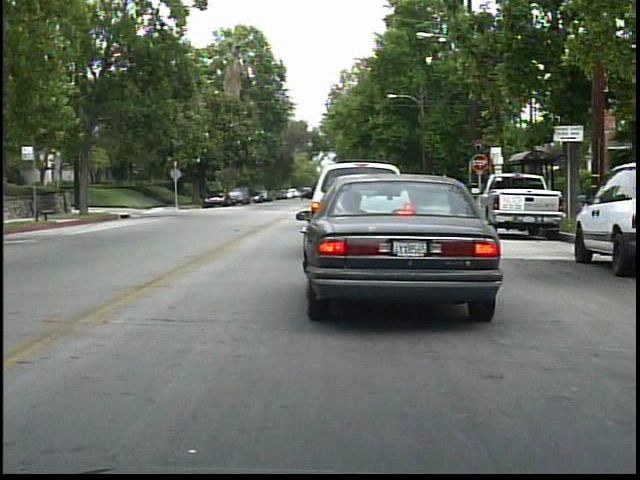person: (211, 179, 226, 204)
